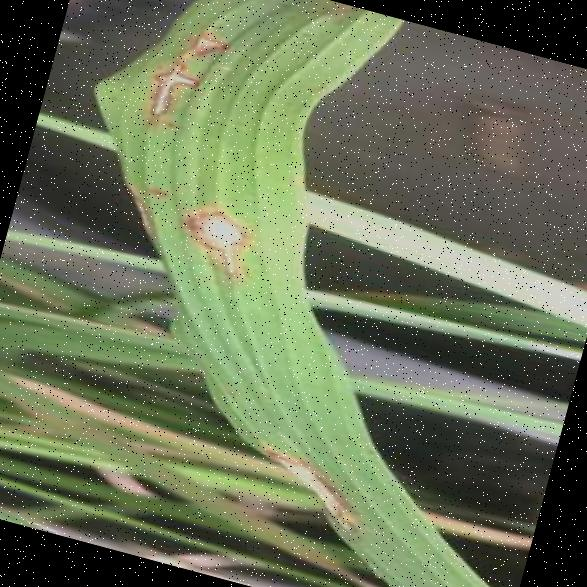Leaf_smut: (216, 426, 381, 558), (149, 182, 289, 304), (122, 30, 209, 128), (94, 162, 182, 256), (141, 1, 234, 68)
